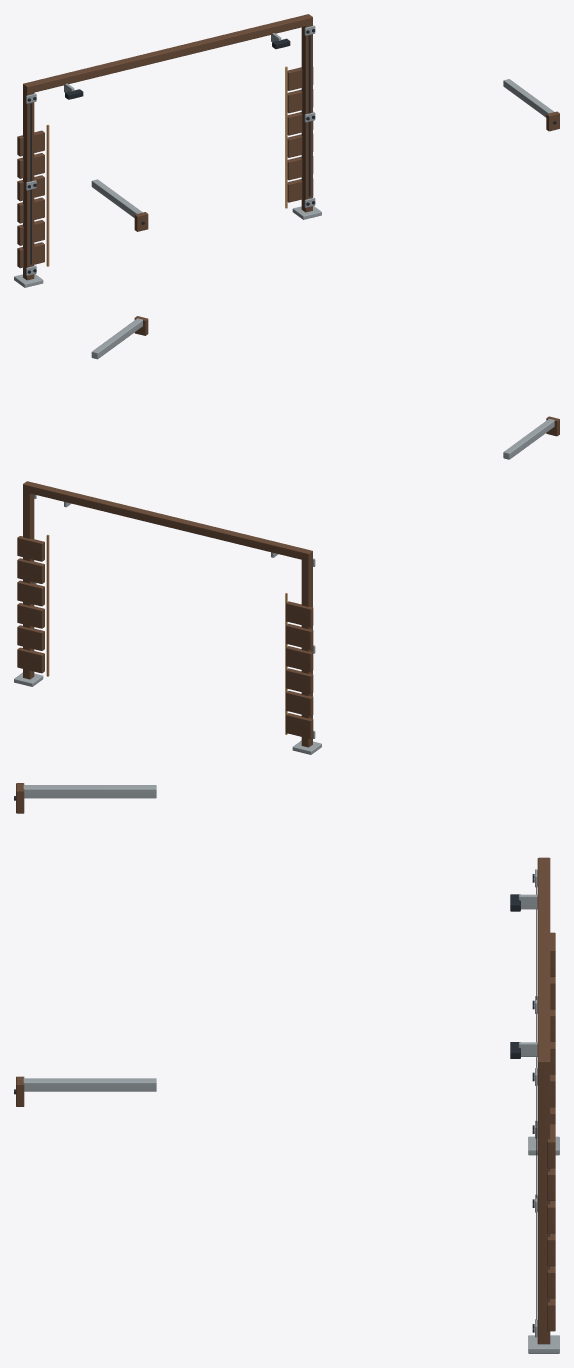
The model's file is coffee.glb.
3 views of the same model, one above another, from view 1: azimuth 30°, elevation 25°; view 2: azimuth 150°, elevation 25°; view 3: azimuth 270°, elevation 25° (orthographic). The views are drawn at different scales.
Visible parts, largest first — view 1: Roofless modular frame coffee; view 2: Roofless modular frame coffee; view 3: Roofless modular frame coffee.
Boxes of the visible parts, x1,y1,x2,y2 form: Roofless modular frame coffee: (14,14,559,287); Roofless modular frame coffee: (14,316,559,754); Roofless modular frame coffee: (14,783,559,1353).
Bounding box in the file's own units: 6.74 × 3.28 × 5.16.
